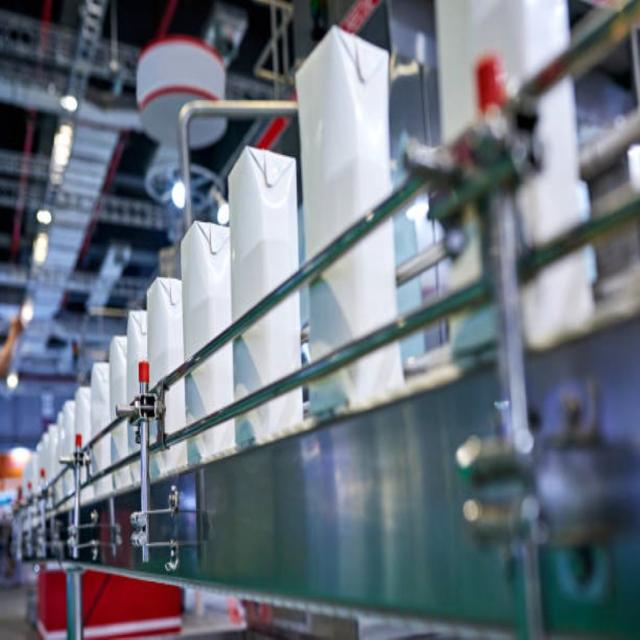food: (293, 22, 406, 414), (226, 144, 304, 446), (178, 218, 236, 461)
